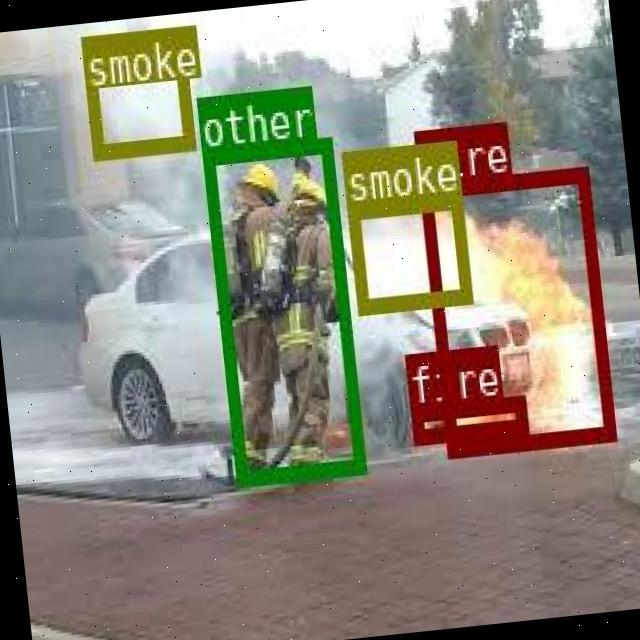fire: (416, 165, 613, 454), (410, 395, 526, 443)
smoke: (79, 23, 192, 157), (346, 191, 470, 313)
